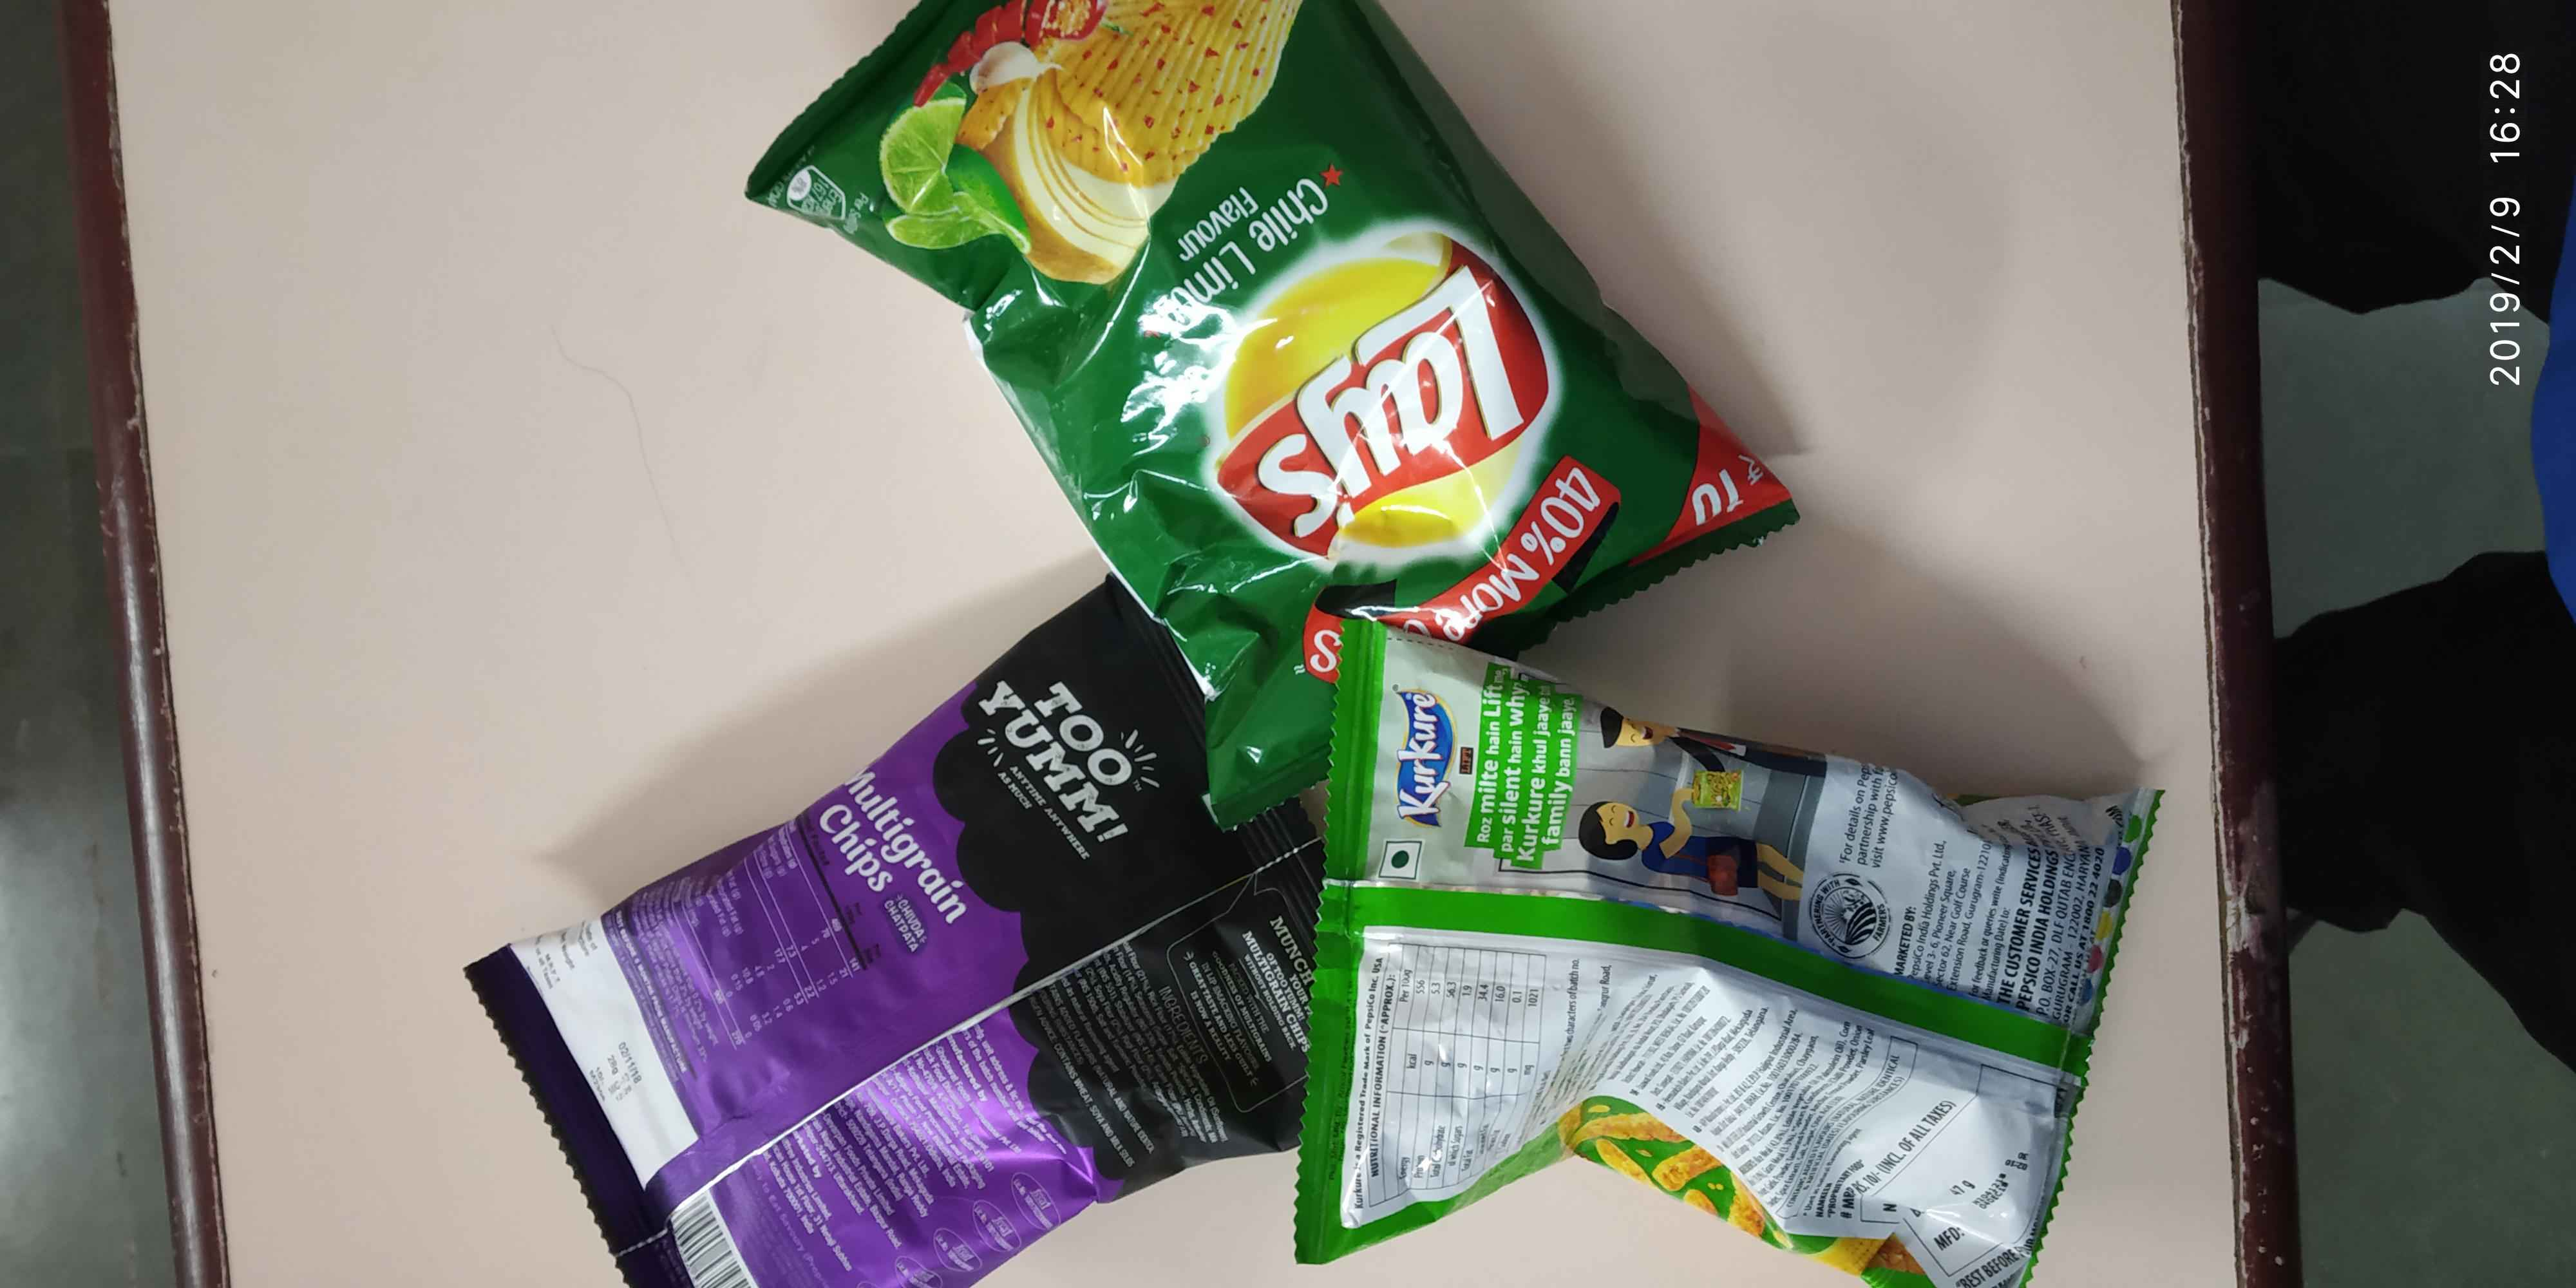Lays: (1209, 227, 1557, 593)
kurkure: (1390, 677, 1469, 838)
tooyumm: (951, 654, 1180, 871)
